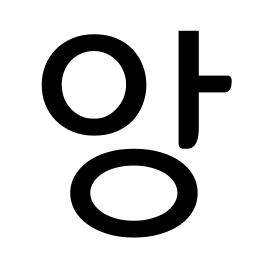Gaji: (169, 66, 218, 109)
